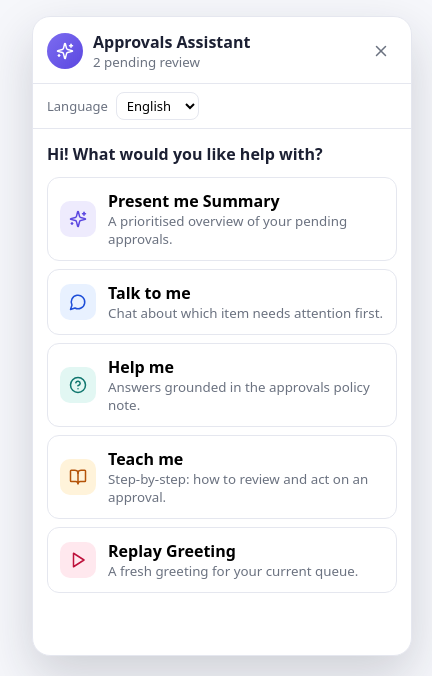
Test: streaming state › renders tokens as they arrive, with a live indicator until done
The image size is (432, 676).
Later steps or results of the test are not shown.
What coordinates should you click on to do the following:
click the button "Present me Summary"
I would click on:
 (222, 219)
Its box is [47,177,397,261].
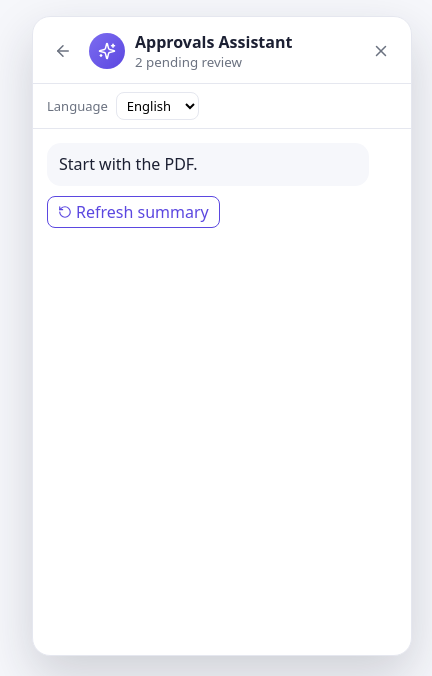
Expected: the text "Start with the PDF." is shown, [47,143,369,186]
